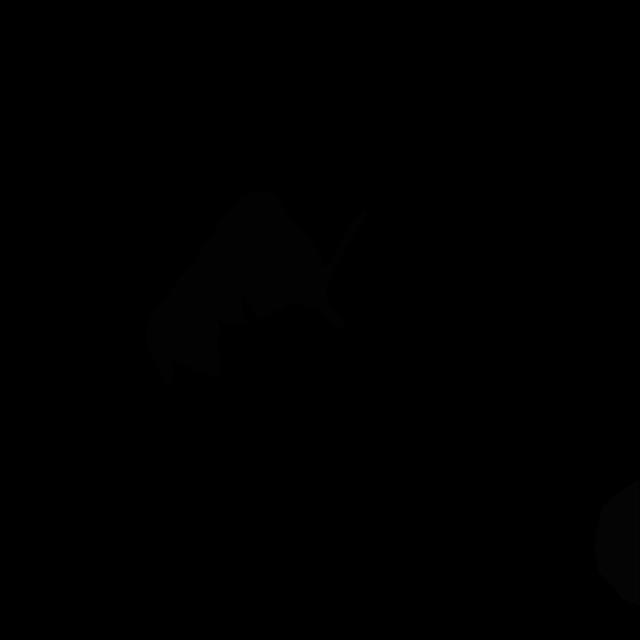cardboard: (146, 190, 367, 385)
soft_plastic: (594, 479, 640, 605)
